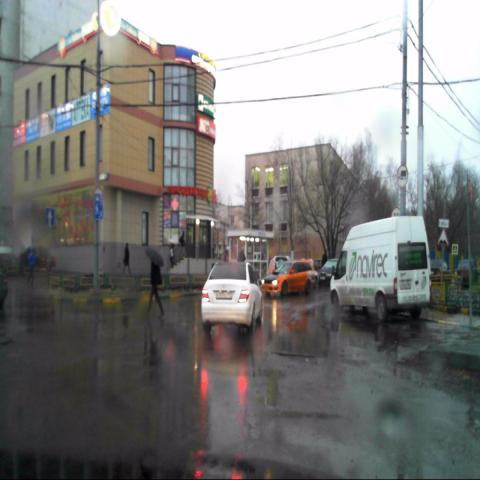3_4_1: (396, 164, 408, 188)
